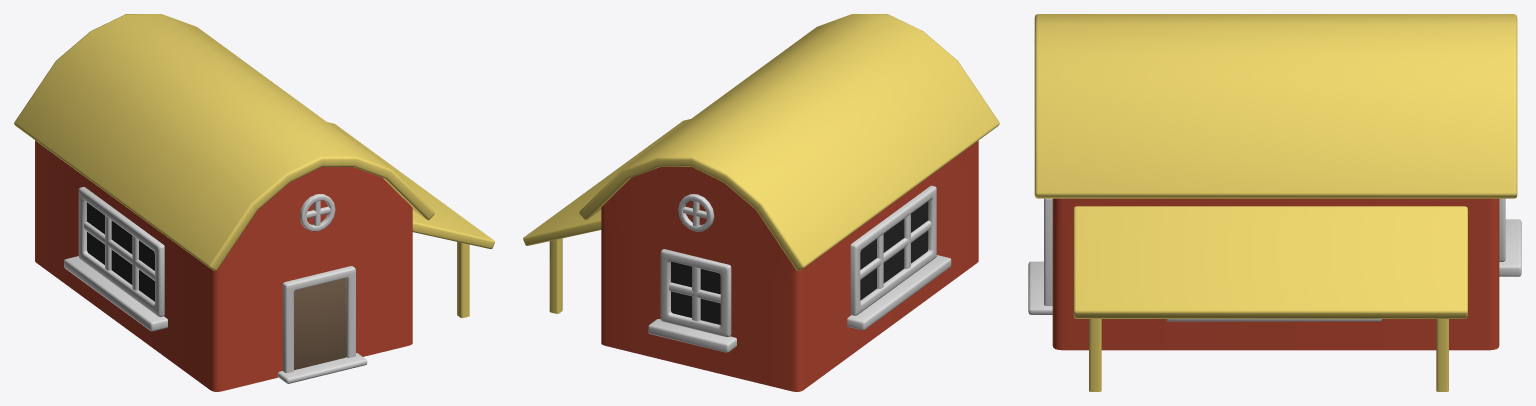
Rendered from House_09.fbx.
The picture shows the model from 3 angles, left to right: view 1: azimuth 30°, elevation 25°; view 2: azimuth 150°, elevation 25°; view 3: azimuth 270°, elevation 25°; orthographic projection. The views are drawn at different scales.
Visible parts, largest first — view 1: House_09; view 2: House_09; view 3: House_09.
Part boxes in pixels (left/top/right/bottom): House_09: left=14, top=14, right=494, bottom=391; House_09: left=523, top=14, right=999, bottom=391; House_09: left=1028, top=14, right=1521, bottom=391.
Size of the model in its own units: 4949 by 3341 by 5625.
